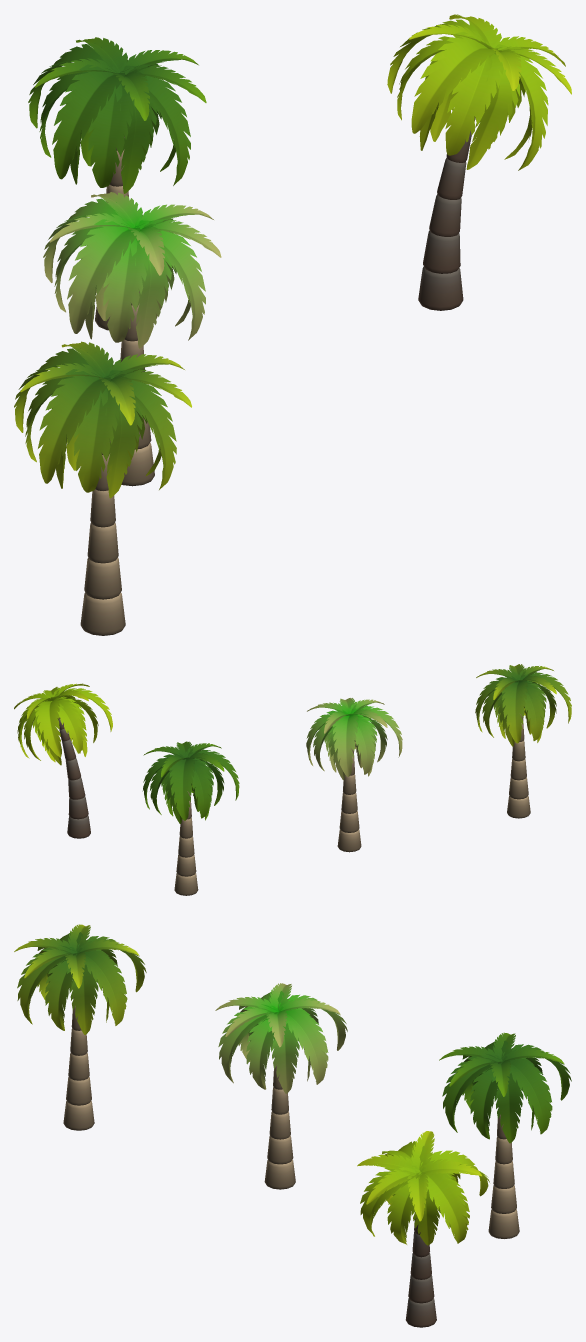
The model's file is coconut_tree.fbx.
The picture shows the model from 3 angles, top to bottom: view 1: azimuth 30°, elevation 25°; view 2: azimuth 150°, elevation 25°; view 3: azimuth 270°, elevation 25°; orthographic projection. The views are drawn at different scales.
Parts seen in each view (by area): view 1: coconut2, coconut3, coconut, coconut1; view 2: coconut1, coconut2, coconut, coconut3; view 3: coconut3, coconut1, coconut2, coconut.
Part boxes in pixels (x1=…): coconut2: x1=14, y1=341, x2=191, y2=635; coconut3: x1=387, y1=14, x2=571, y2=310; coconut: x1=43, y1=192, x2=221, y2=486; coconut1: x1=28, y1=37, x2=206, y2=330; coconut1: x1=142, y1=741, x2=239, y2=895; coconut2: x1=475, y1=664, x2=571, y2=818; coconut: x1=306, y1=698, x2=402, y2=852; coconut3: x1=14, y1=683, x2=112, y2=838; coconut3: x1=357, y1=1131, x2=489, y2=1327; coconut1: x1=439, y1=1032, x2=571, y2=1238; coconut2: x1=14, y1=924, x2=146, y2=1130; coconut: x1=215, y1=983, x2=347, y2=1189.
Bounding box in the file's own units: 1402 × 457 × 1242.
